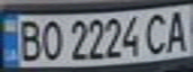2: (66, 16, 90, 62), (103, 15, 127, 61), (84, 16, 106, 61)
4: (121, 12, 145, 59)
A: (163, 7, 193, 54)
B: (12, 17, 45, 62)
C: (142, 10, 172, 56)
O: (36, 17, 66, 62)
